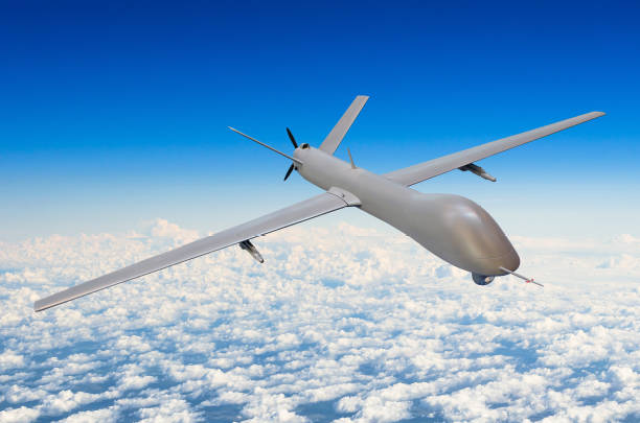military drone: (34, 95, 606, 312)
